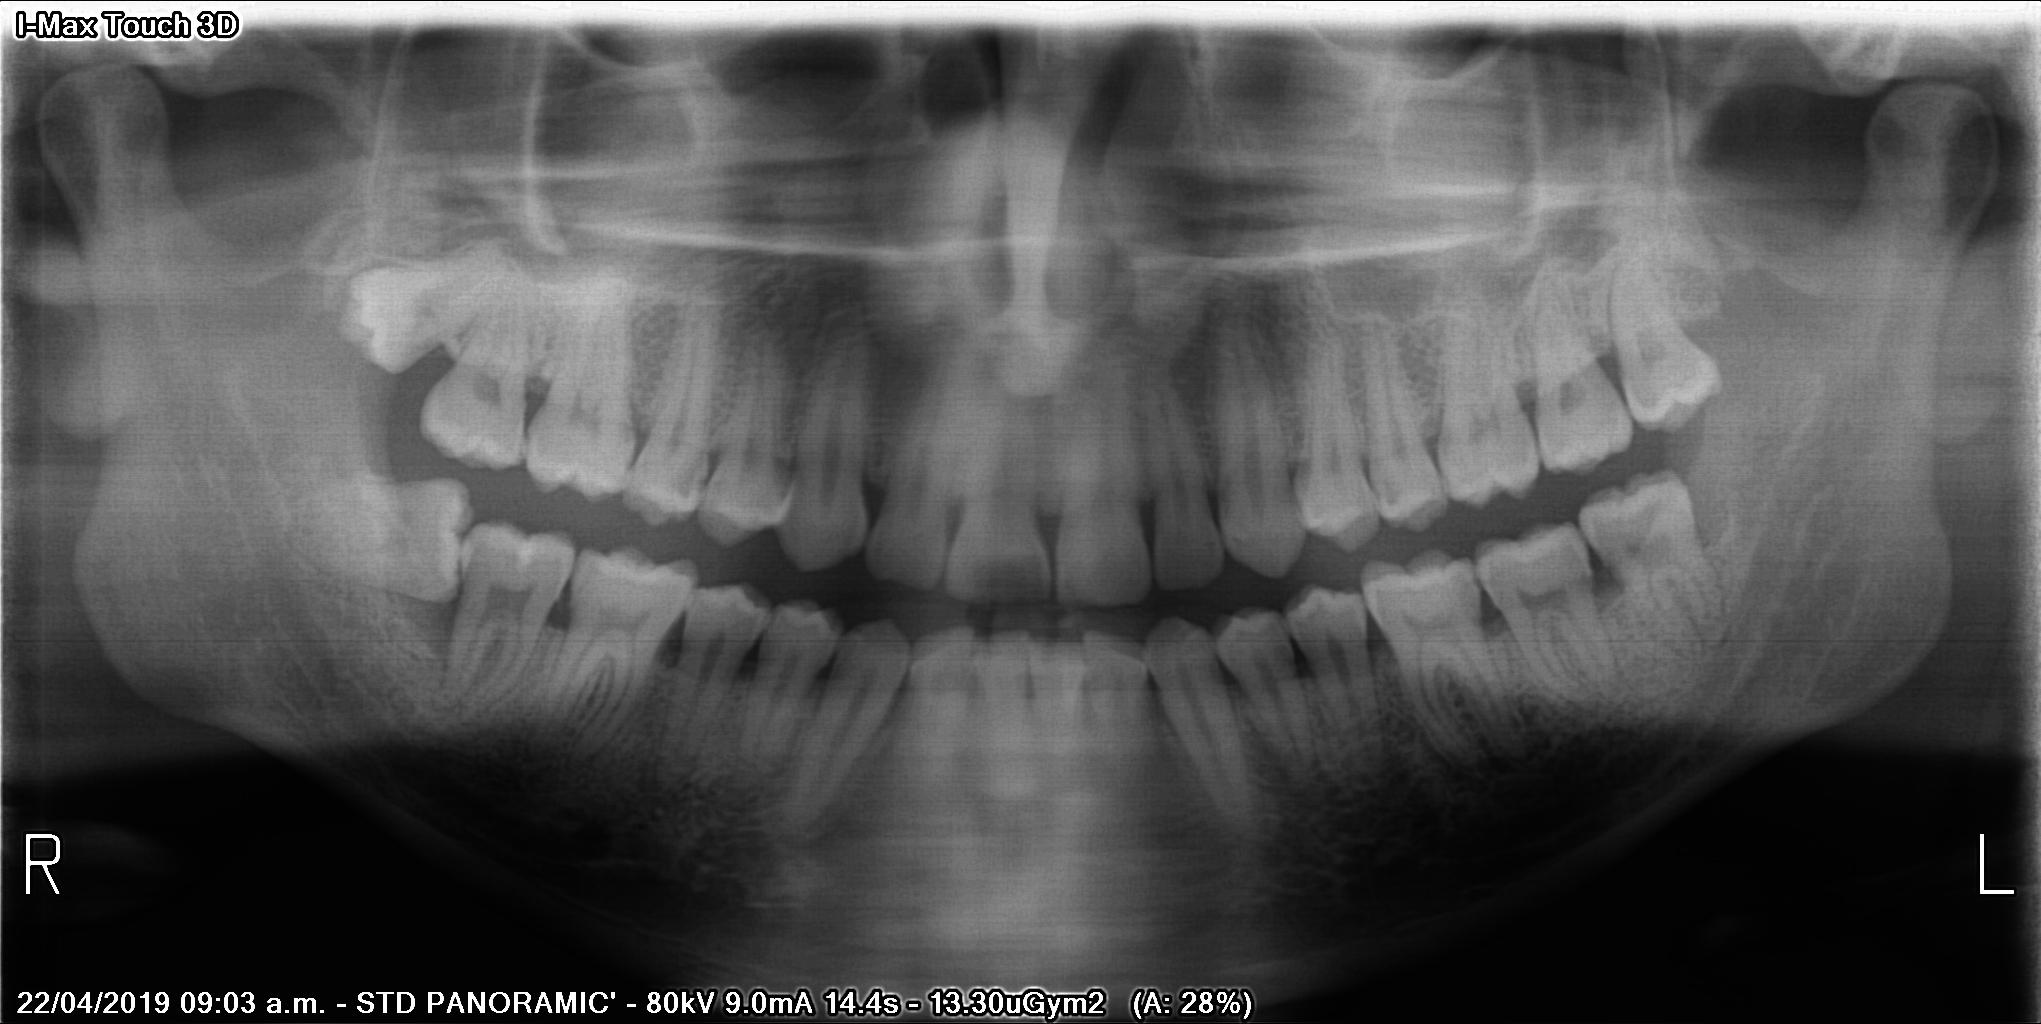Çürük Bölgesi: (1448, 575, 1494, 632)
